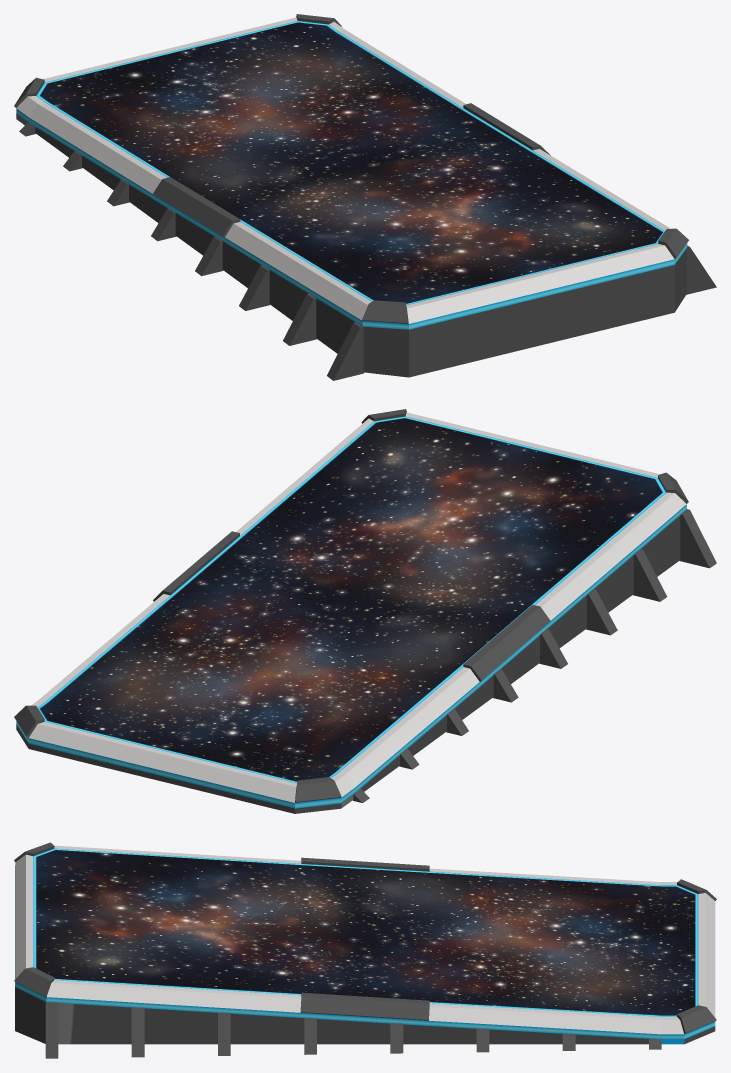
Rendered from BlackHole_Run.fbx.
3 views of the same model, one above another, from view 1: azimuth 30°, elevation 25°; view 2: azimuth 150°, elevation 25°; view 3: azimuth 270°, elevation 25° (orthographic). The views are drawn at different scales.
Visible parts, largest first — view 1: BlackHole_Run; view 2: BlackHole_Run; view 3: BlackHole_Run.
Boxes of the visible parts, <box> form: BlackHole_Run: <box>14,14,716,380</box>; BlackHole_Run: <box>14,409,716,813</box>; BlackHole_Run: <box>14,842,716,1058</box>.
Size of the model in its own units: 537 by 90.56 by 925.
Materials: 1 (1 with a texture image).
